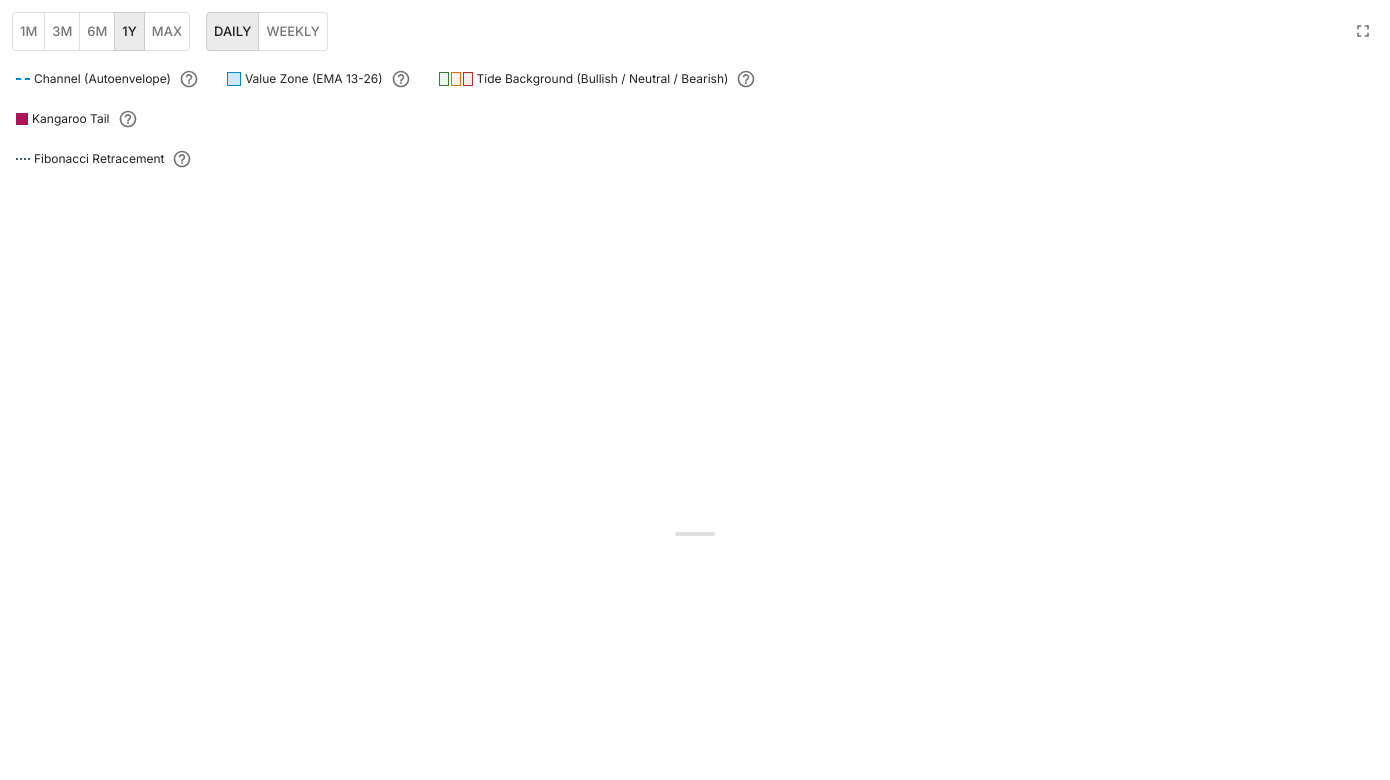
Test: PriceChart › kangaroo tail overlay (frontend-kangaroo-tail-markers) › shows the Kangaroo Tail legend with MetricHelp content using this tail's own actual numbers (range vs. average, open/close vs. the extreme, suggested stop)
Check: the text "Kangaroo Tail" is shown, box 32,109 -> 110,129
Click the button named "Kangaroo Tail help": (128, 119) 118,109 -> 138,129
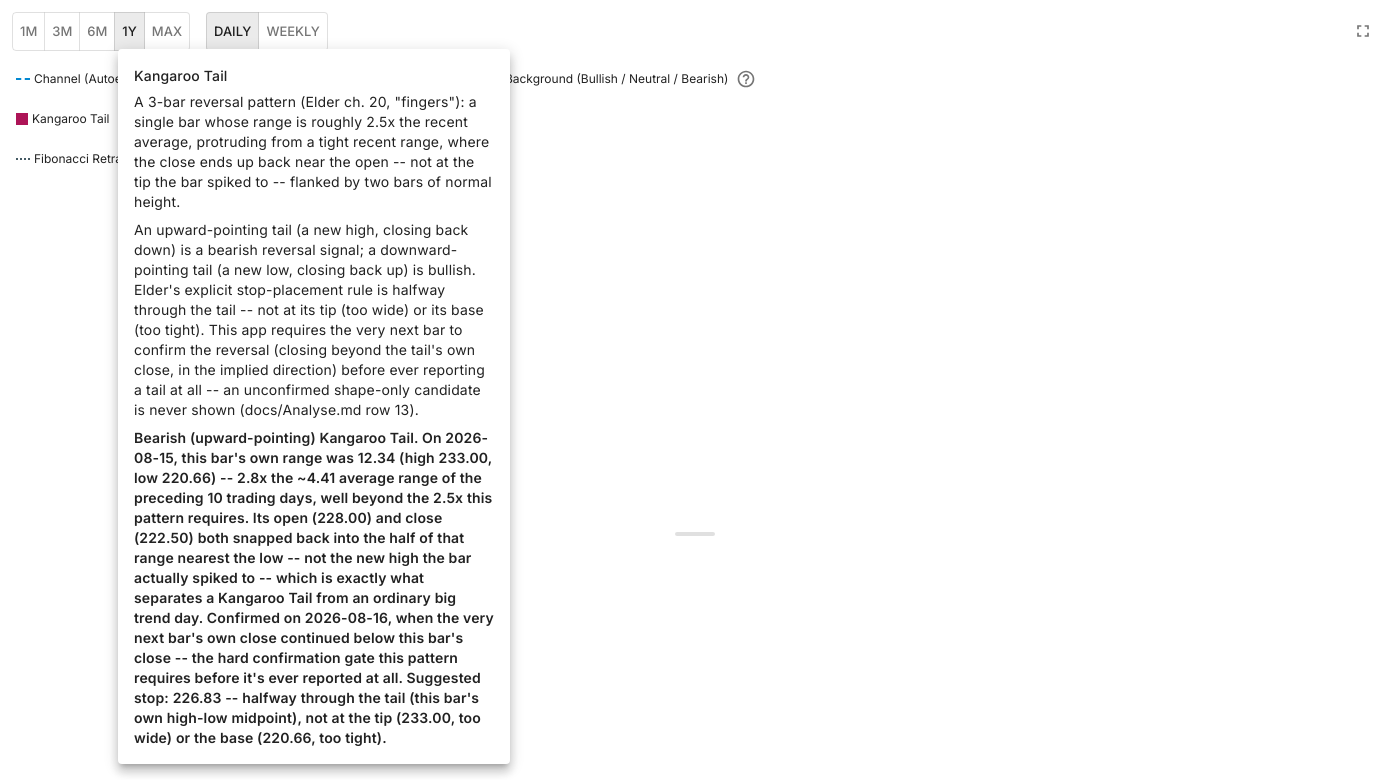
Check: the text "Suggested stop: 226.83" is shown, box 134,429 -> 494,746
